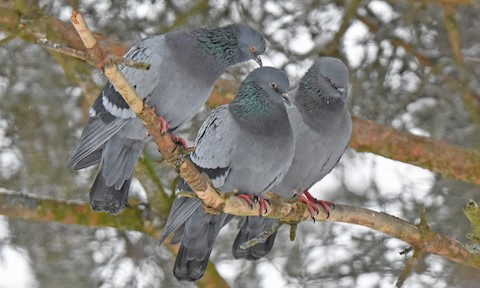pigeon: (62, 15, 269, 218), (150, 62, 297, 284), (229, 55, 356, 261)
